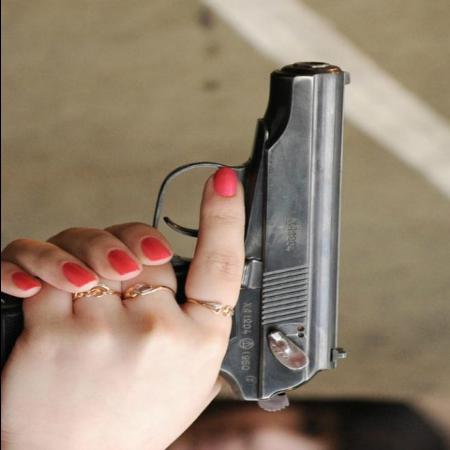Pistol: (12, 57, 356, 414)
